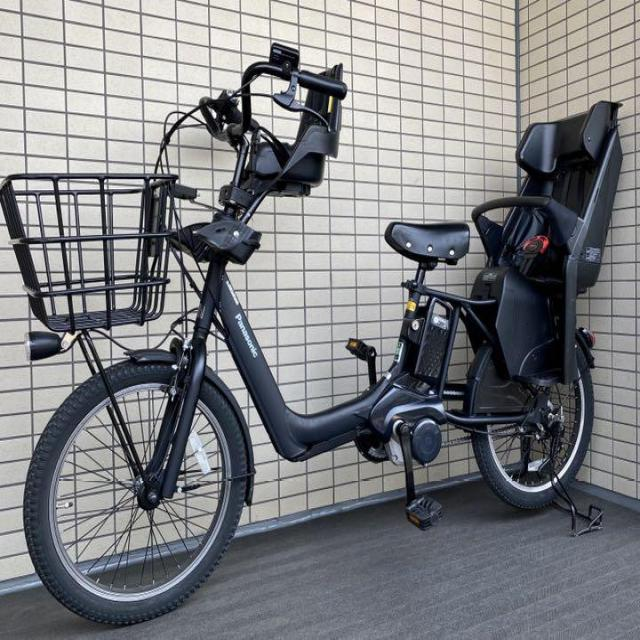basket: (0, 165, 184, 341)
battery: (402, 295, 457, 398)
childseat: (467, 97, 629, 386)
